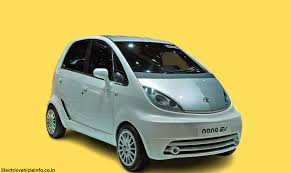Nano: (43, 33, 242, 173)
